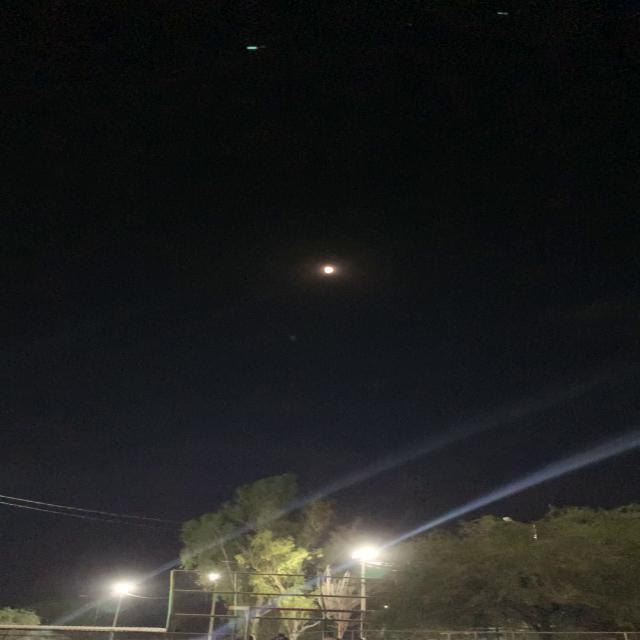moon: (317, 257, 332, 279)
